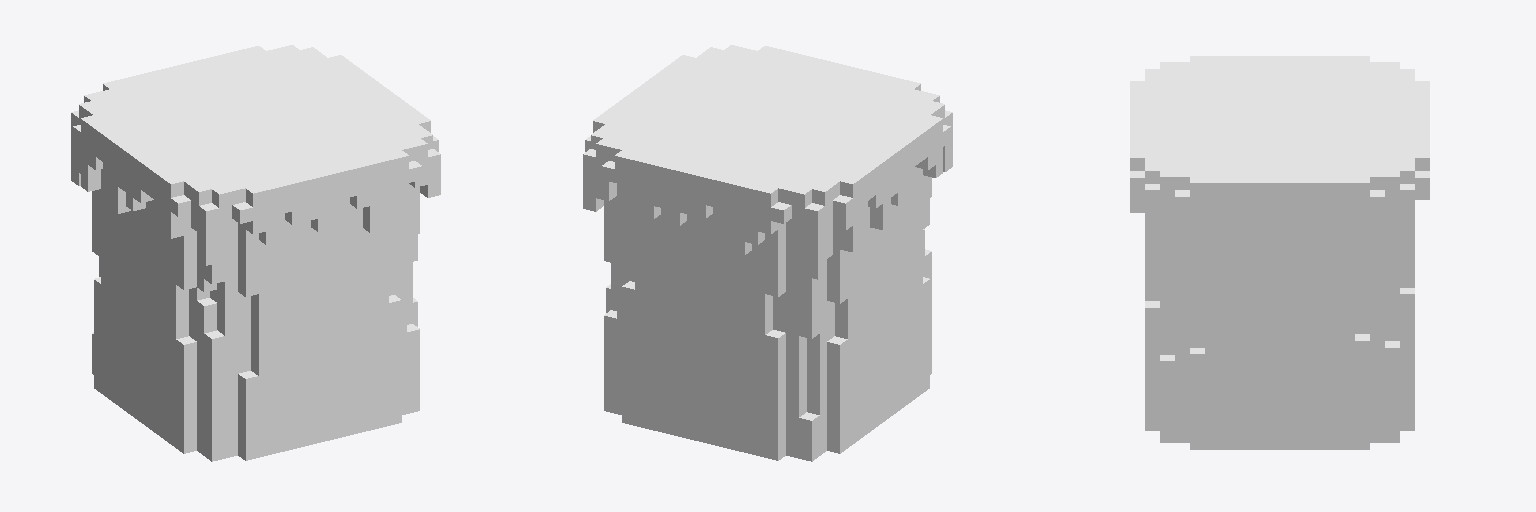
File: ground_20_20_20.obj
The picture shows the model from 3 angles: view 1: azimuth 30°, elevation 25°; view 2: azimuth 150°, elevation 25°; view 3: azimuth 270°, elevation 25°; orthographic projection.
Visible parts, largest first — view 1: object 1; view 2: object 1; view 3: object 1.
Part boxes in pixels (x1,y1,x2,y2): object 1: (71,45,440,461); object 1: (583,45,952,461); object 1: (1130,56,1429,449).
Bounding box in the file's own units: 2 × 2 × 2.